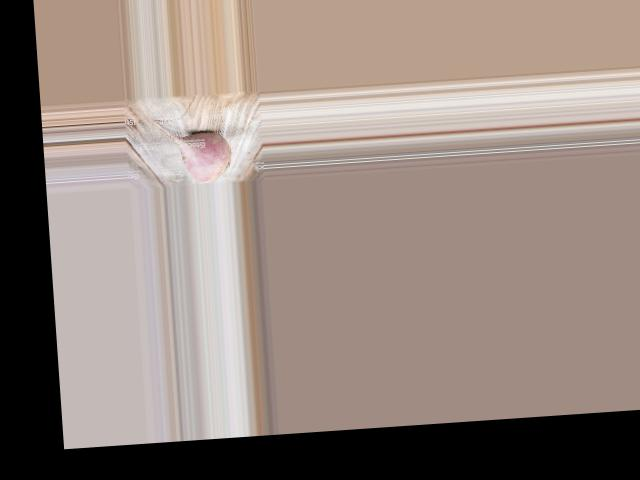beet: (152, 115, 232, 185)
